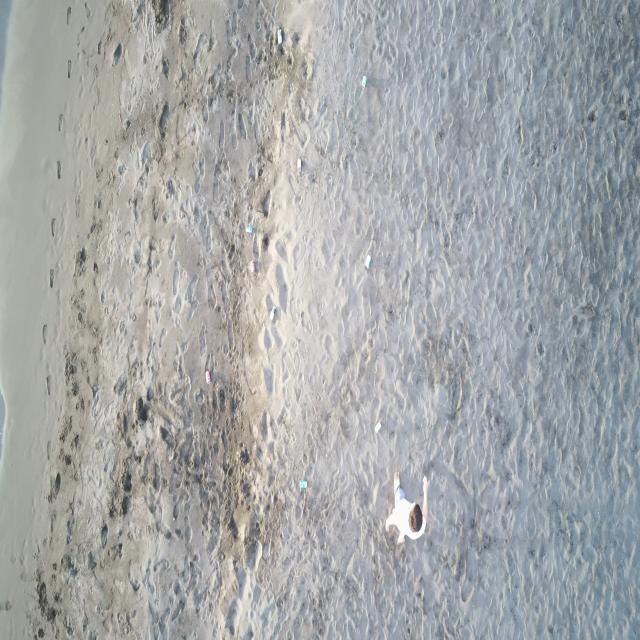Garbage: (299, 479, 306, 512), (276, 27, 283, 44), (248, 260, 257, 272), (204, 368, 211, 383), (364, 254, 371, 268), (360, 75, 367, 87), (373, 421, 380, 432), (244, 224, 252, 233), (296, 158, 301, 172), (271, 307, 276, 320), (299, 479, 306, 487)
